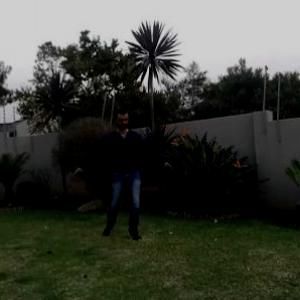land: (78, 105, 179, 234)
